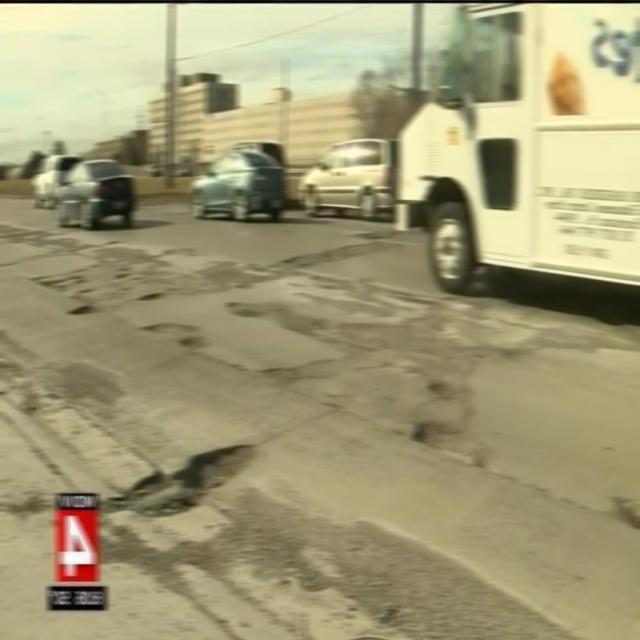Pothole: (278, 500, 573, 640), (110, 428, 257, 528), (206, 236, 400, 306), (409, 367, 529, 477), (0, 341, 146, 416), (235, 294, 399, 359), (387, 278, 487, 348), (0, 239, 136, 264), (137, 318, 217, 357), (138, 240, 206, 272), (38, 270, 96, 300), (130, 274, 174, 312), (66, 292, 100, 320)
